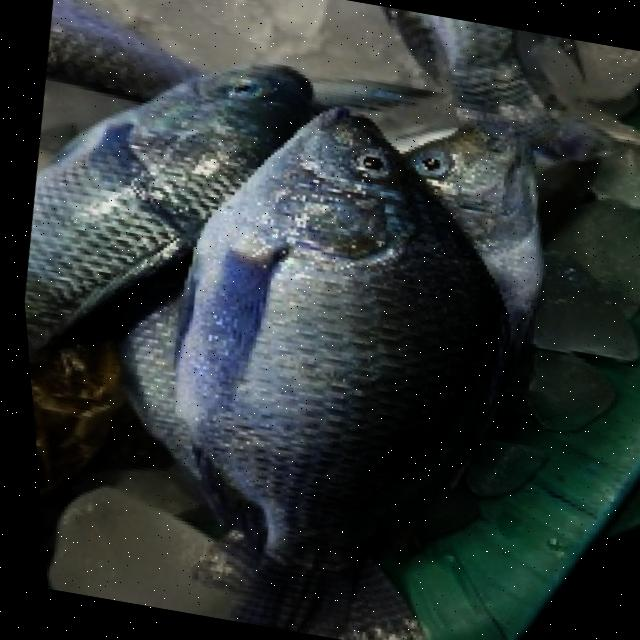Fresh: (105, 97, 548, 640), (96, 21, 338, 307)
